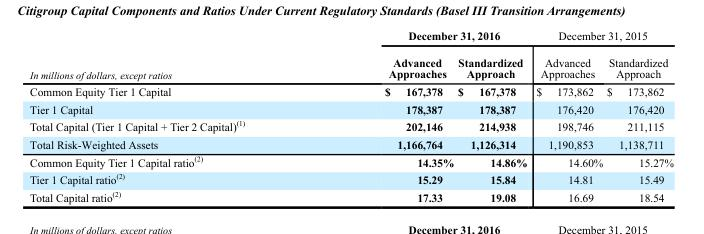table: (29, 29, 673, 203)
table column: (29, 29, 314, 203), (314, 29, 455, 203), (455, 29, 530, 203), (530, 29, 604, 203), (604, 29, 673, 203)
table column header: (29, 29, 673, 82)
table row: (29, 48, 673, 82), (29, 29, 673, 48), (29, 116, 673, 135), (29, 169, 673, 187), (29, 82, 673, 99), (29, 99, 673, 116), (29, 135, 673, 152), (29, 152, 673, 169), (29, 187, 673, 203)
table spanning cell: (29, 29, 314, 82), (314, 29, 530, 48), (530, 29, 673, 48)
